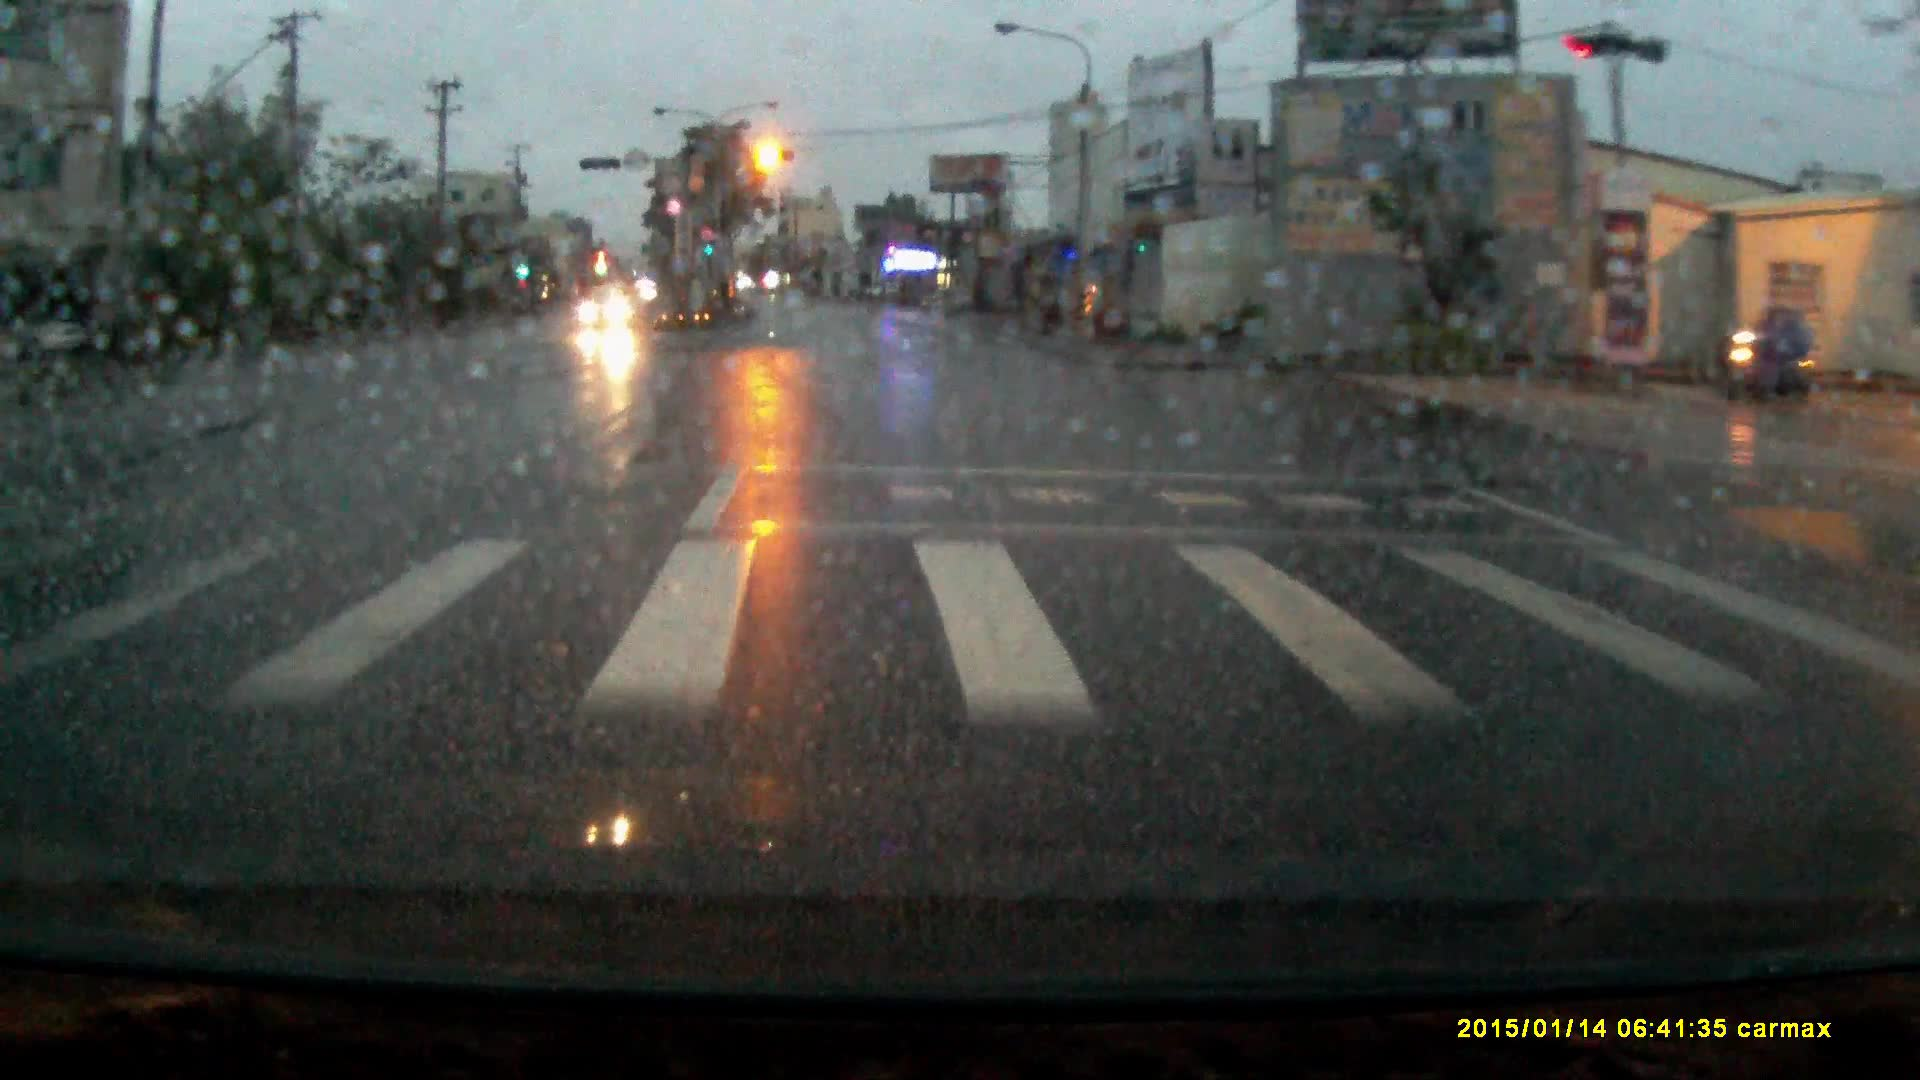rider: (1722, 294, 1818, 412)
vehicle: (578, 293, 639, 336)
